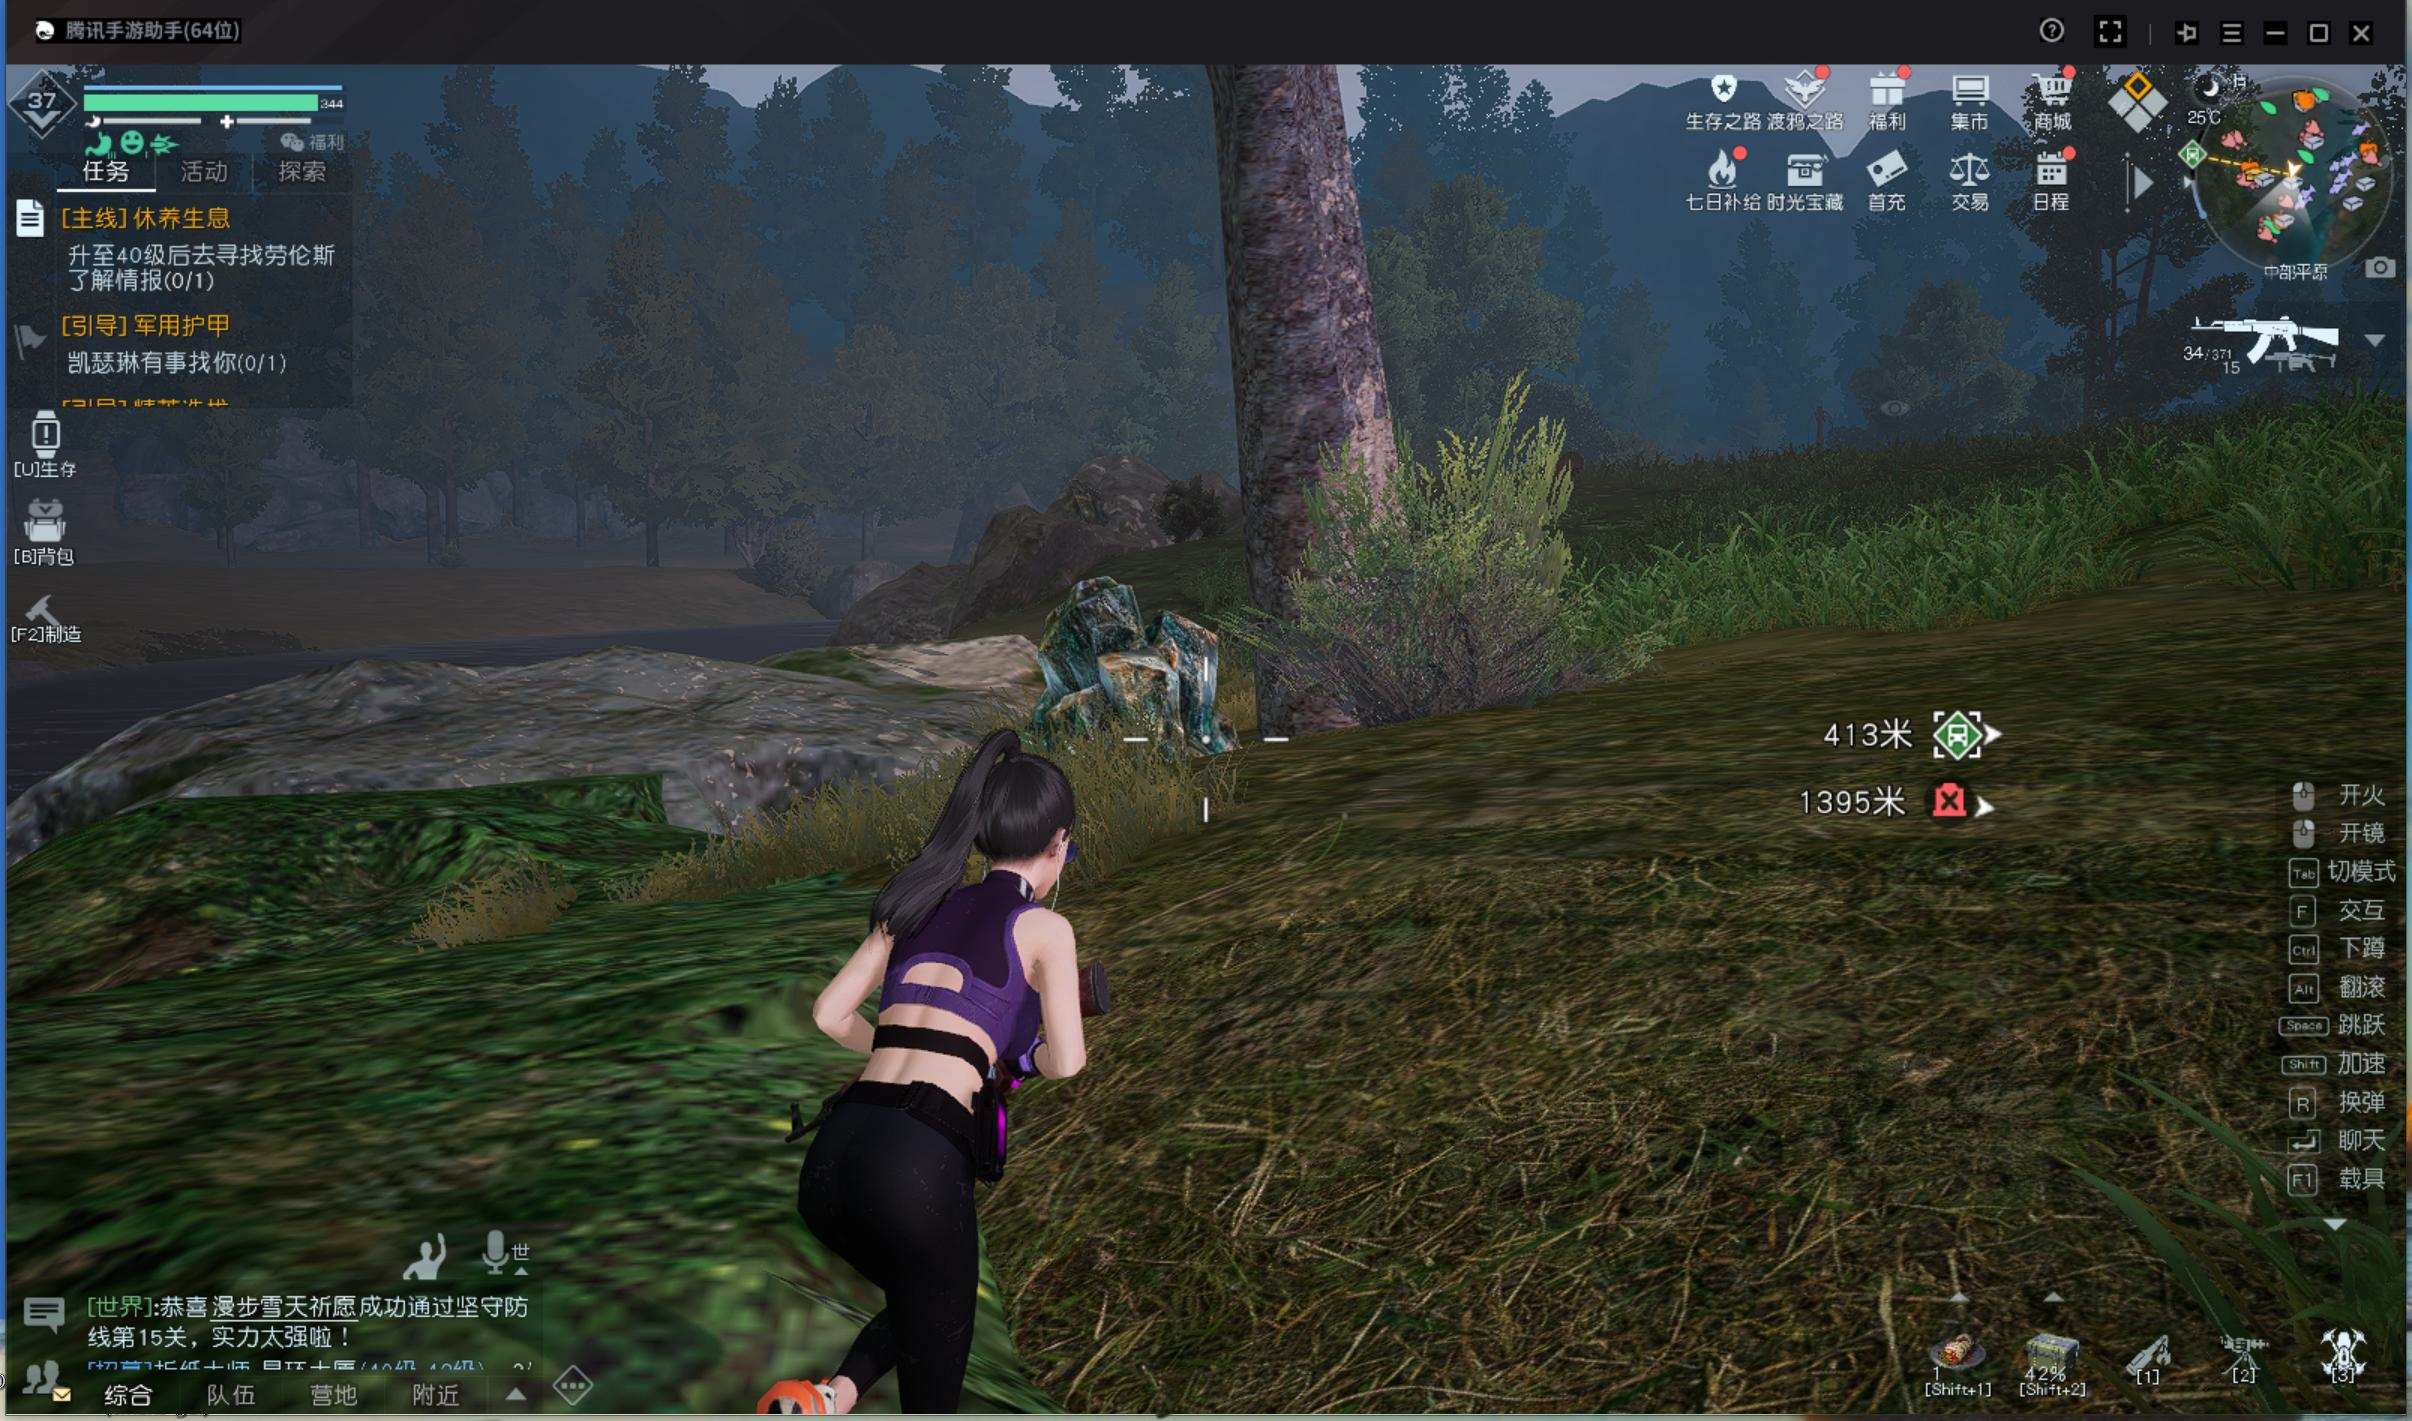stone: (962, 540, 1213, 754)
tree: (1209, 218, 1495, 738)
